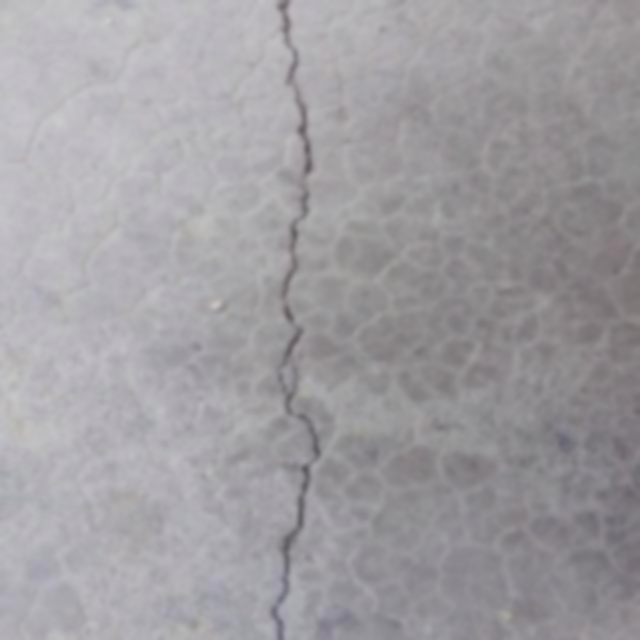SurfaceCrack: (252, 0, 328, 640)
